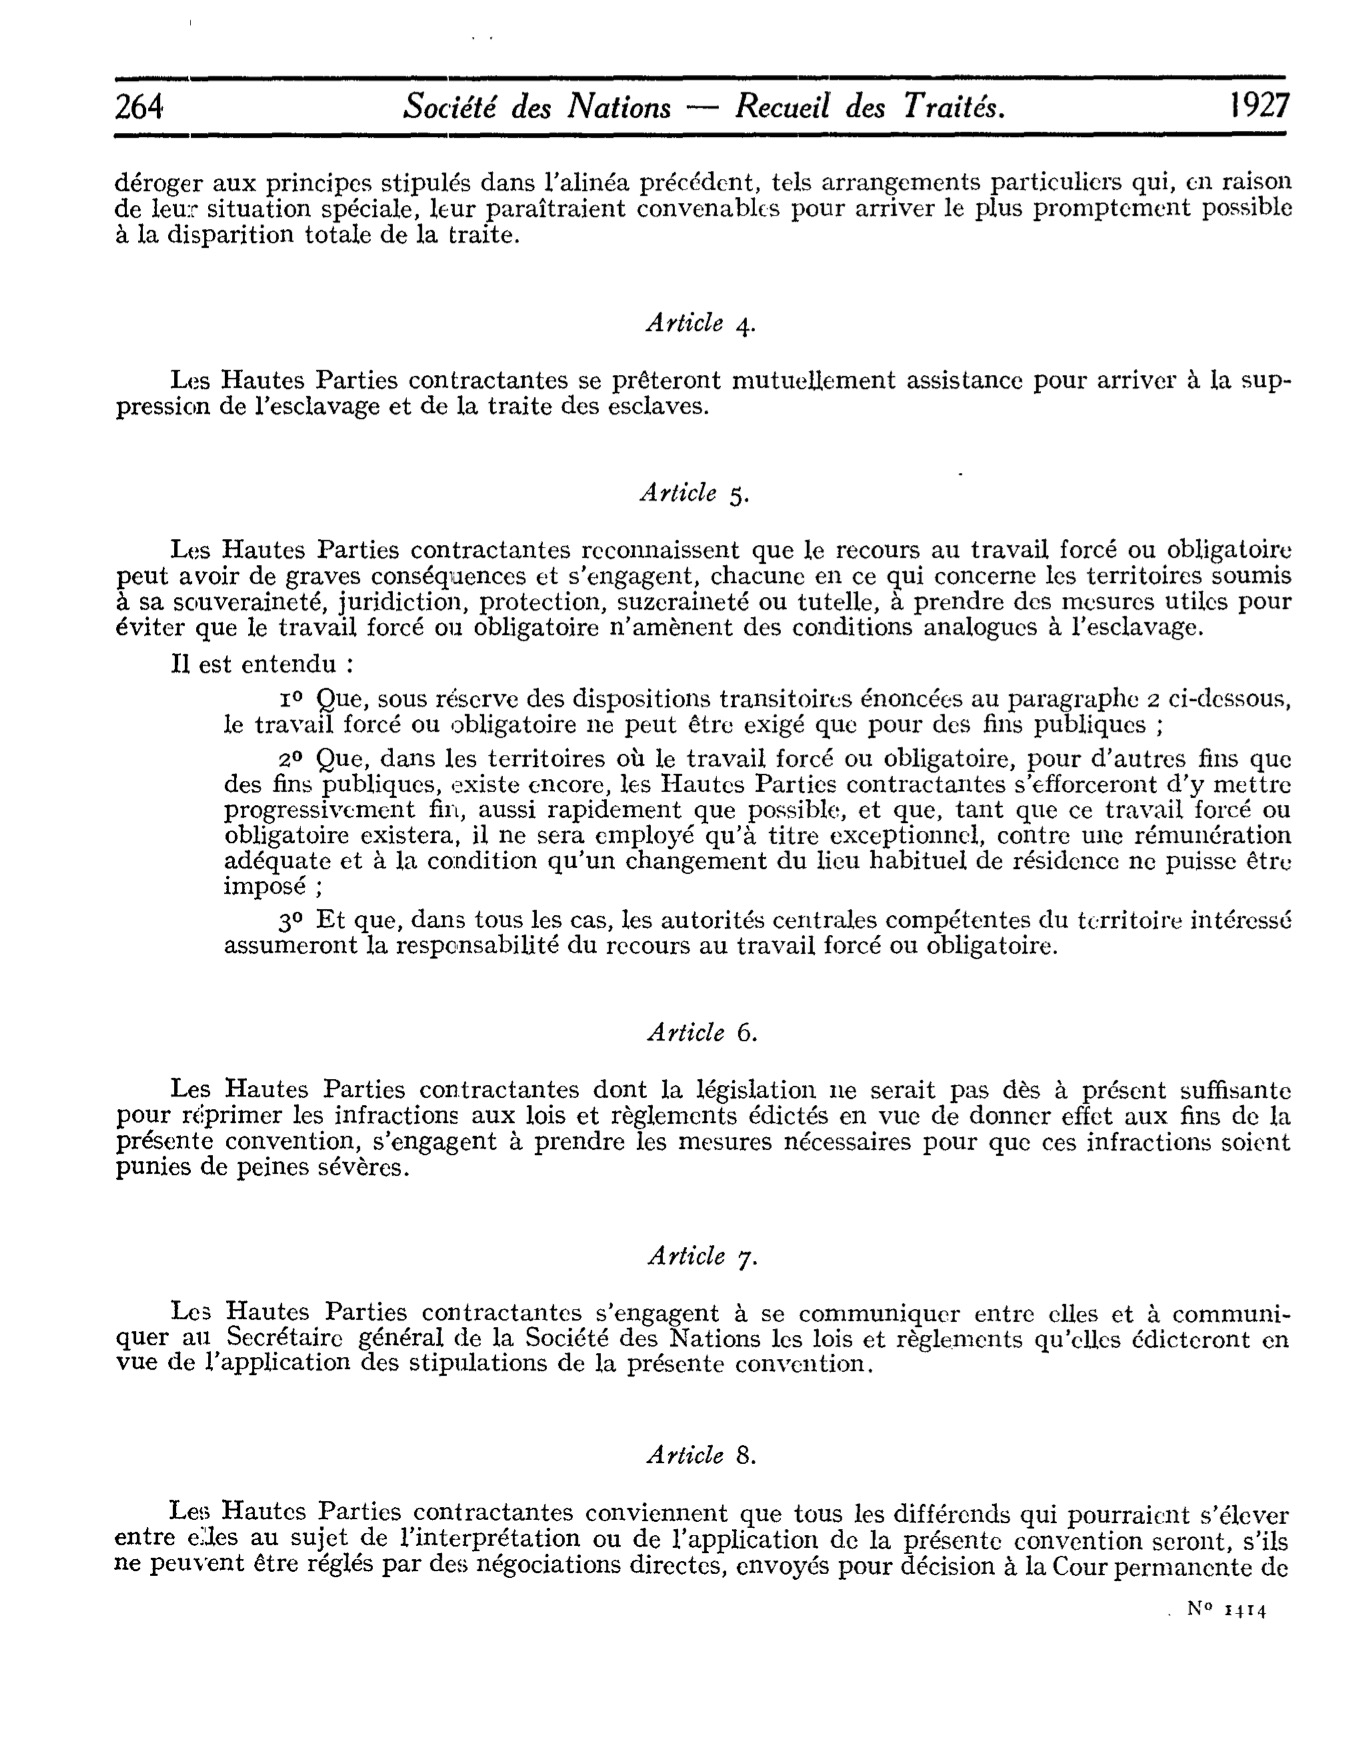MainZone-Continued: (105, 160, 1309, 259)
MainZone-Date: (1222, 85, 1296, 126)
MainZone-Head: (637, 302, 766, 350), (639, 1235, 768, 1281), (631, 472, 759, 518), (639, 1009, 767, 1054), (638, 1435, 764, 1478)
MainZone-ListItem: (212, 743, 1302, 899), (214, 902, 1302, 968), (205, 678, 1300, 741)
MainZone-P: (106, 1067, 1302, 1192), (106, 531, 1302, 645), (105, 1493, 1299, 1593), (108, 1292, 1302, 1387), (110, 359, 1303, 434), (135, 646, 362, 679)
StampZone: (396, 84, 1010, 127)
TitlePageZone: (1175, 1592, 1275, 1626), (109, 86, 172, 128)
